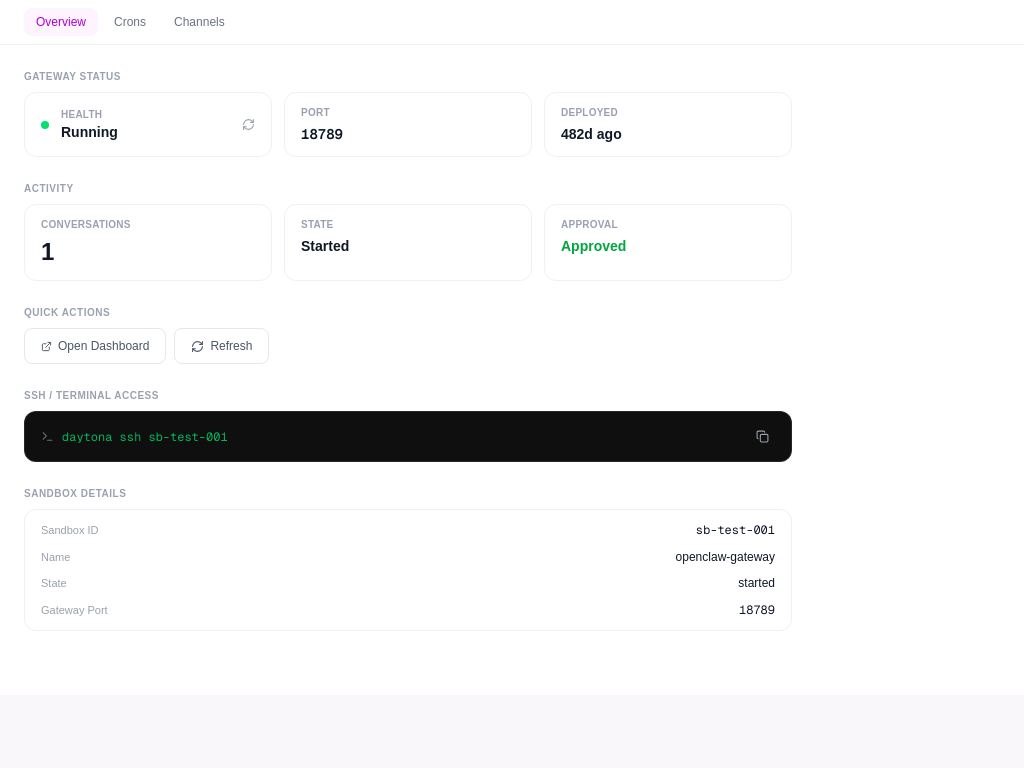
Test: MissionControlPanel › switches back to Overview after clicking away
The width and height of the screenshot is (1024, 768).
Click the button "Crons" at (130, 22), box [102, 8, 158, 36]
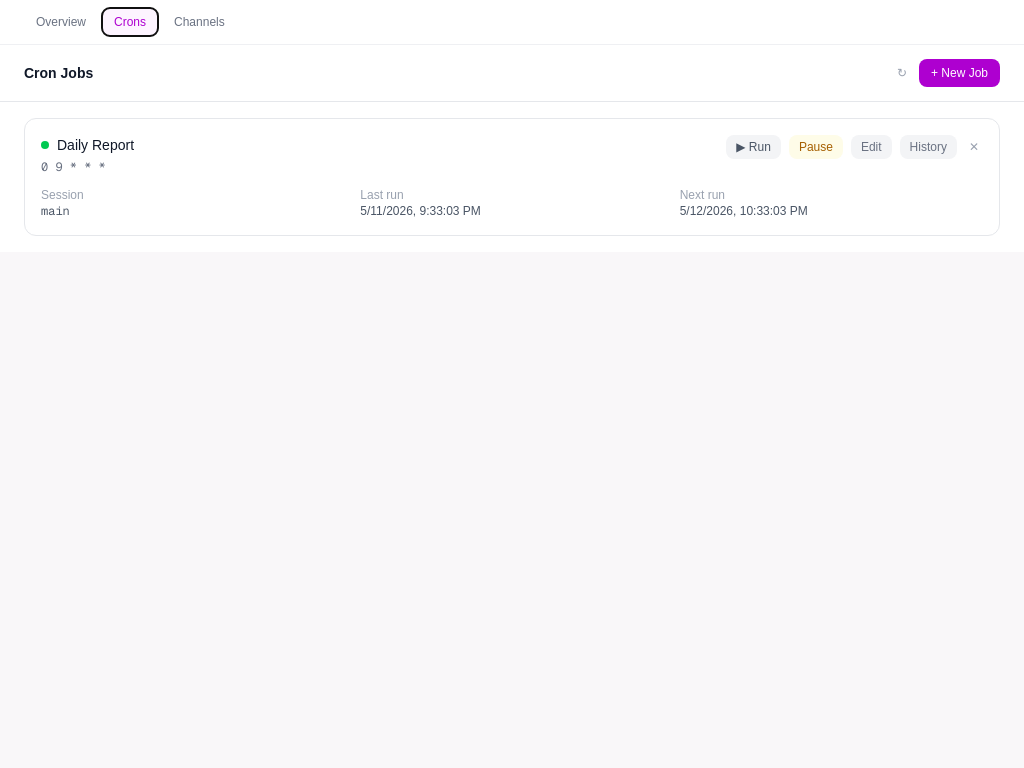
Click the button "Overview" at (61, 22), box [24, 8, 98, 36]
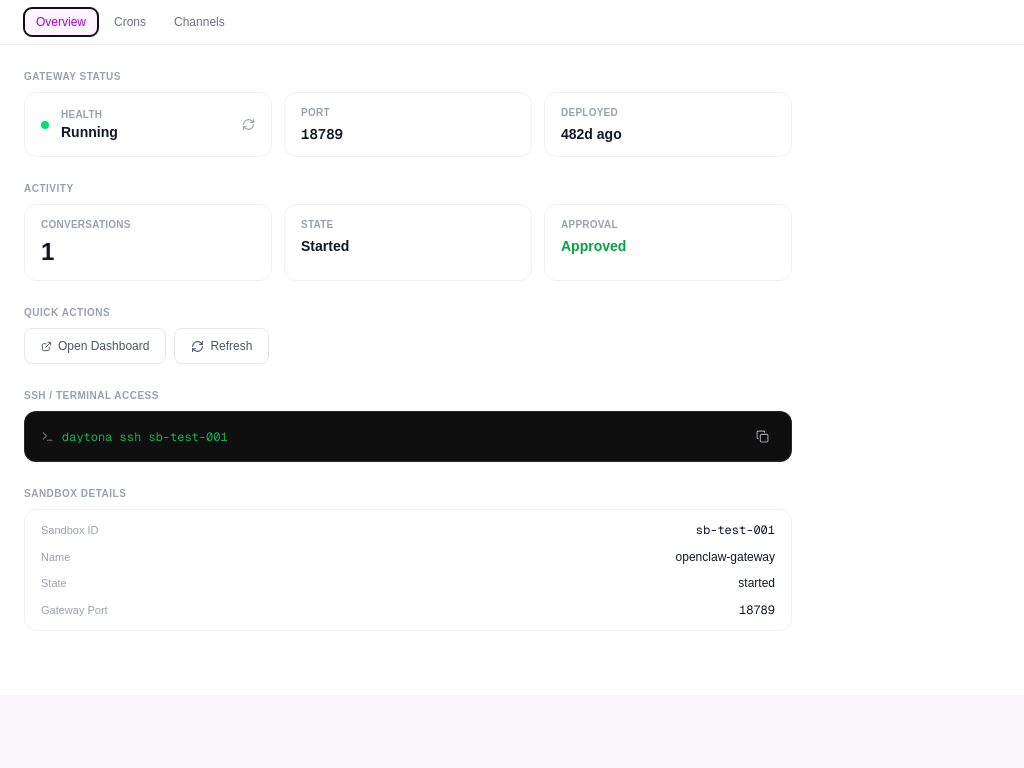
Now the text "Gateway Status" is shown, box [24, 71, 121, 82]
